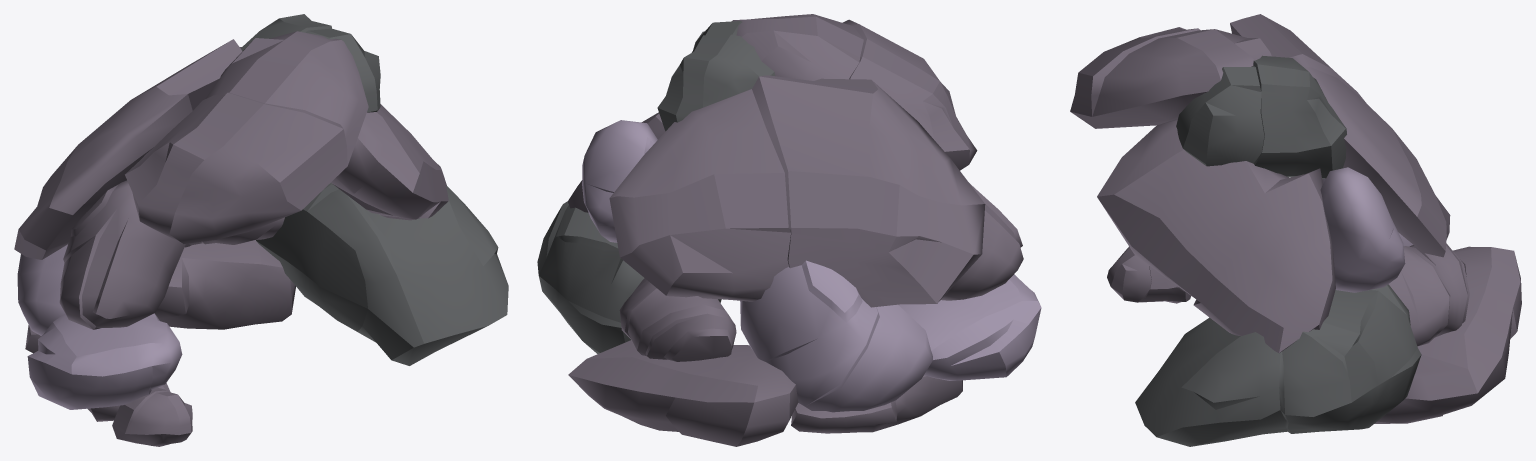
The model's file is P_cave_01.fbx.
3 views of the same model, side by side, from view 1: azimuth 30°, elevation 25°; view 2: azimuth 150°, elevation 25°; view 3: azimuth 270°, elevation 25° (orthographic). The views are drawn at different scales.
Parts seen in each view (by area): view 1: lod1; view 2: lod1; view 3: lod1.
Part boxes in pixels (x1,y1,x2,y2): lod1: (14, 14, 508, 446); lod1: (537, 14, 1041, 446); lod1: (1070, 14, 1521, 446).
Size of what is drawn, in the model's own units: 383 by 272 by 315.
Materials: 1 (1 with a texture image).
